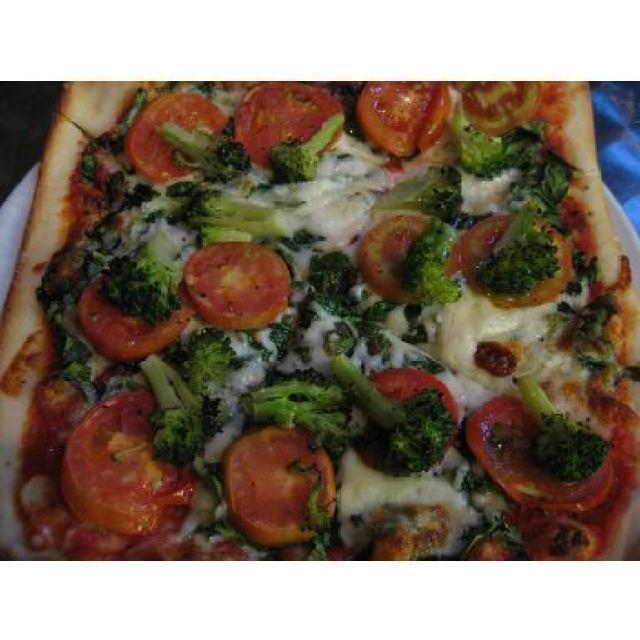Broccoli: (330, 347, 455, 475), (514, 375, 612, 480), (96, 222, 196, 324), (138, 351, 210, 464), (476, 199, 558, 296), (241, 380, 347, 445), (392, 212, 460, 306), (443, 115, 545, 177), (268, 110, 344, 184), (198, 188, 288, 246), (373, 165, 464, 218), (179, 328, 239, 390)
